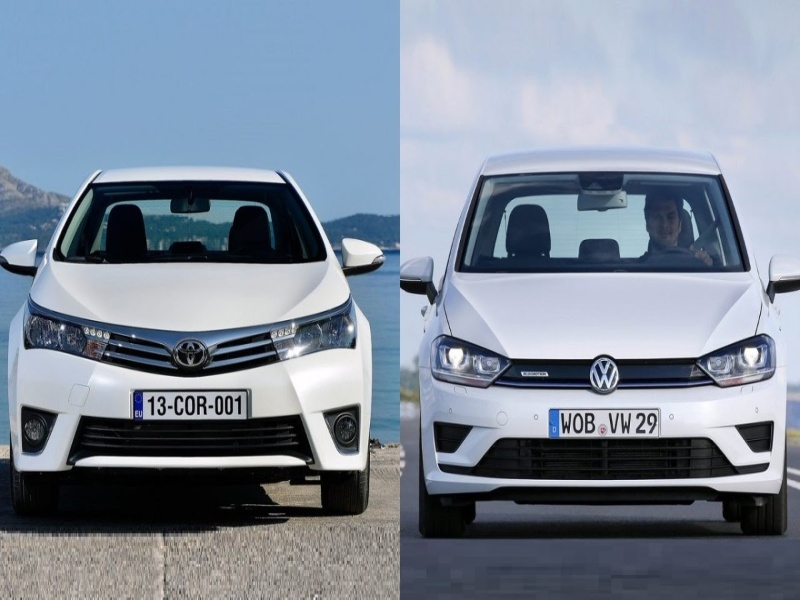car: (399, 147, 800, 537), (1, 165, 384, 514)
person: (643, 185, 683, 248)
plate: (134, 389, 249, 421), (549, 408, 659, 437)
